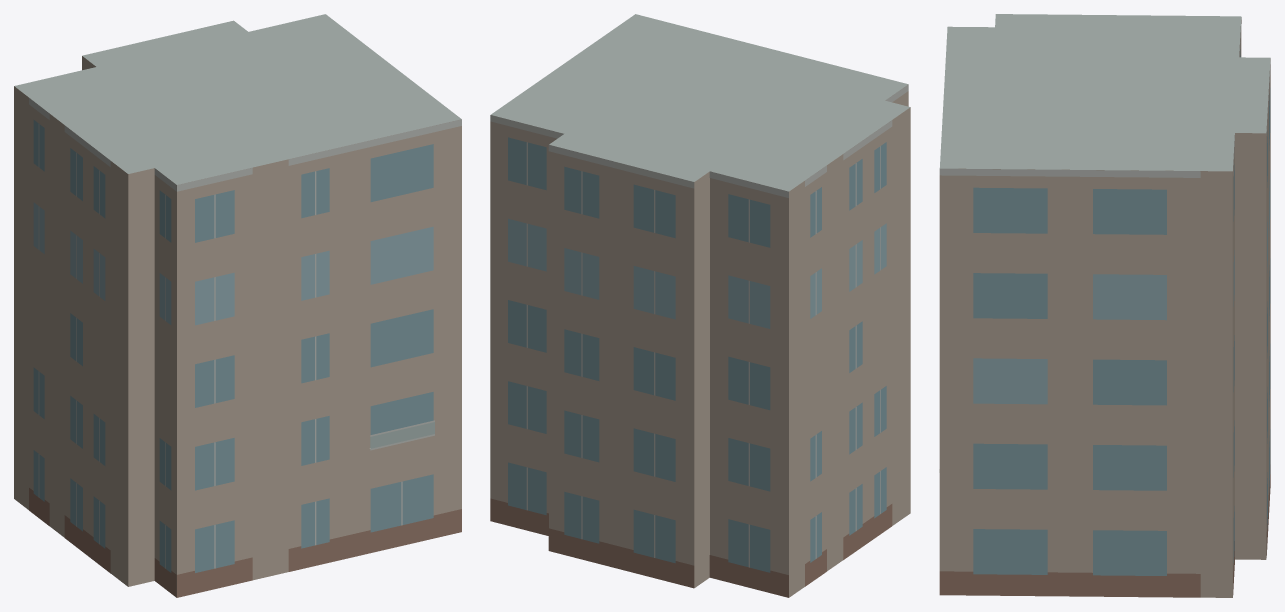
The model's file is survey-upis-32565412.glb.
The picture shows the model from 3 angles, left to right: view 1: azimuth 30°, elevation 25°; view 2: azimuth 150°, elevation 25°; view 3: azimuth 270°, elevation 25°; orthographic projection. The views are drawn at different scales.
Visible parts, largest first — view 1: survey-upis-32565412.tmp; view 2: survey-upis-32565412.tmp; view 3: survey-upis-32565412.tmp.
Part boxes in pixels (x1=…): survey-upis-32565412.tmp: x1=14, y1=14, x2=461, y2=597; survey-upis-32565412.tmp: x1=490, y1=14, x2=910, y2=597; survey-upis-32565412.tmp: x1=939, y1=14, x2=1270, y2=597.
Bounding box in the file's own units: 11.87 × 15 × 10.56.
